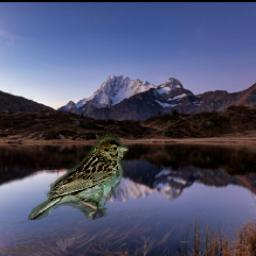Sparrow: (28, 135, 129, 221)
